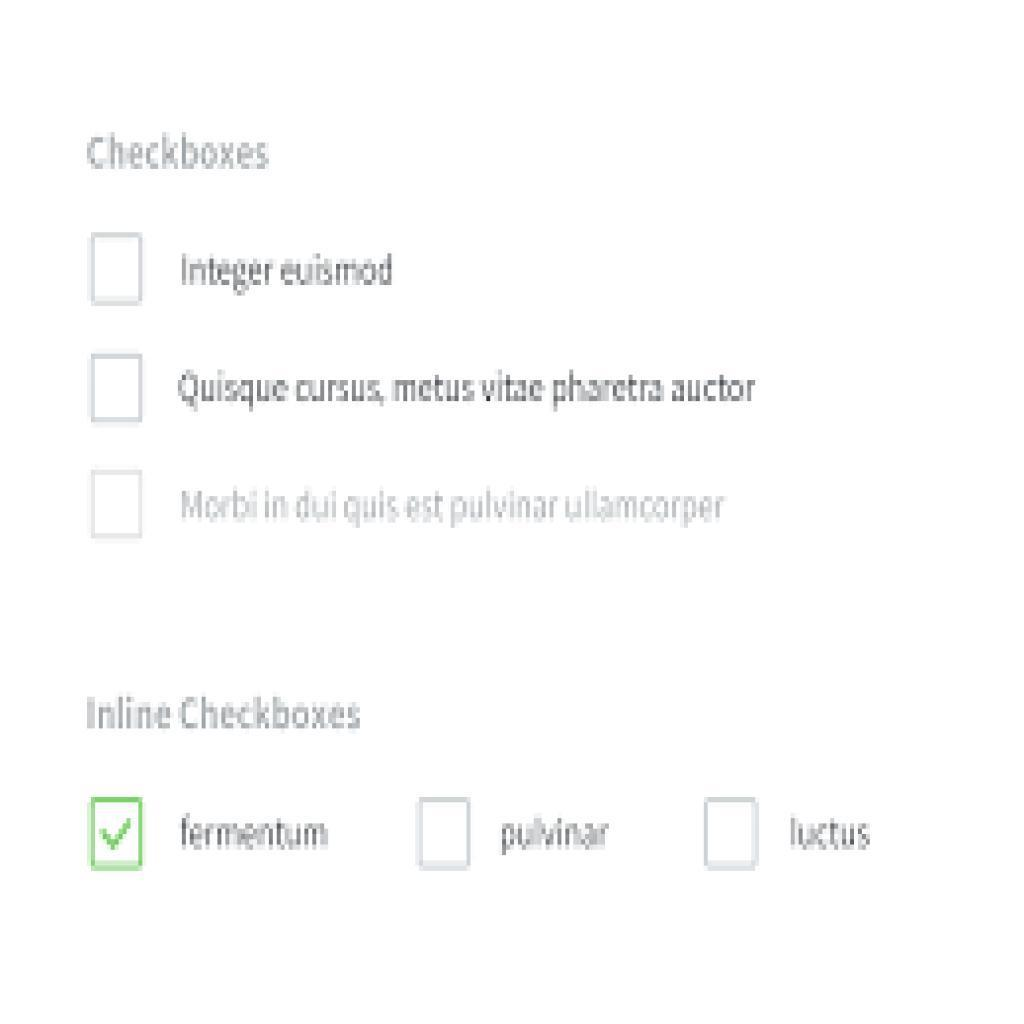checkbox: (703, 797, 761, 872), (419, 799, 474, 871), (90, 800, 144, 873), (92, 231, 144, 303), (91, 468, 143, 539), (92, 354, 143, 424)
label: (170, 365, 760, 413), (180, 482, 730, 533), (171, 248, 401, 294), (177, 805, 333, 855), (494, 815, 614, 859), (785, 811, 876, 857)
